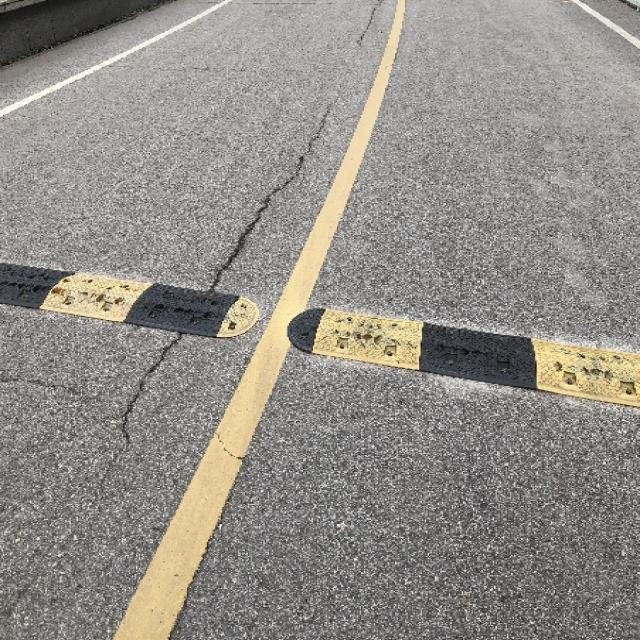Speed Bump: (287, 304, 638, 406), (0, 258, 261, 342)
